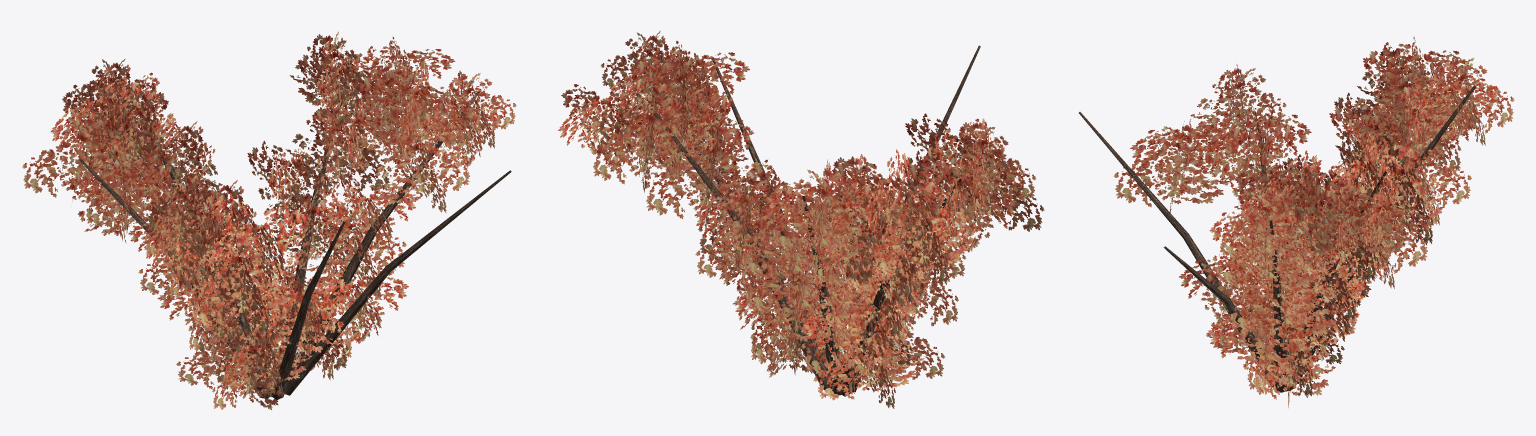
The model's file is bush_3d_06_copper_lod1.glb.
3 views of the same model, side by side, from view 1: azimuth 30°, elevation 25°; view 2: azimuth 150°, elevation 25°; view 3: azimuth 270°, elevation 25° (orthographic). The views are drawn at different scales.
Visible parts, largest first — view 1: foliage_cards, wood_geometry; view 2: foliage_cards, wood_geometry; view 3: foliage_cards, wood_geometry.
Part boxes in pixels (bbox=[...]): foliage_cards: bbox=[22, 31, 516, 409]; wood_geometry: bbox=[79, 51, 511, 399]; foliage_cards: bbox=[558, 30, 1044, 408]; wood_geometry: bbox=[631, 45, 980, 396]; foliage_cards: bbox=[1113, 37, 1514, 407]; wood_geometry: bbox=[1079, 85, 1475, 392].
Size of the model in its own units: 2.93 by 1.94 by 2.64.
2 materials, 2 textured.
